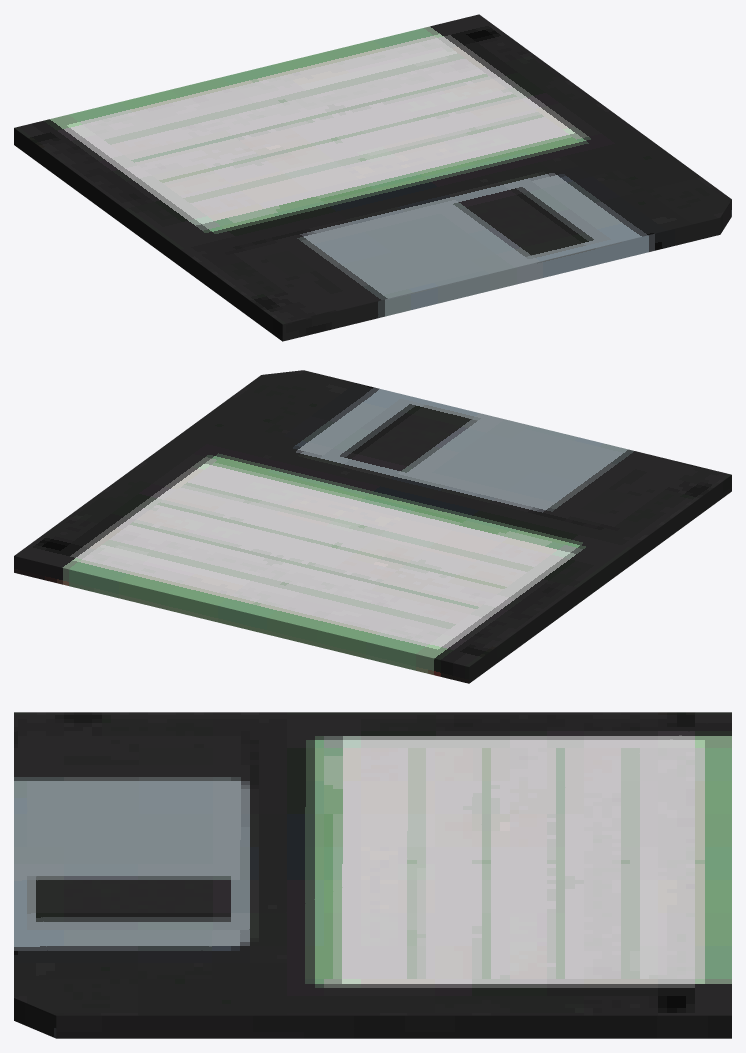
The model's file is item_floppy3.glb.
3 renders of one model, top to bottom at view 1: azimuth 30°, elevation 25°; view 2: azimuth 150°, elevation 25°; view 3: azimuth 270°, elevation 25°, orthographic. The views are drawn at different scales.
Parts seen in each view (by area): view 1: Office_Floppy3; view 2: Office_Floppy3; view 3: Office_Floppy3.
Boxes of the visible parts, x1,y1,x2,y2 form: Office_Floppy3: (14, 14, 731, 341); Office_Floppy3: (14, 370, 731, 683); Office_Floppy3: (14, 712, 731, 1038).
Bounding box in the file's own units: 0.1354 × 0.00476 × 0.1354.
Materials: 1 (1 with a texture image).
